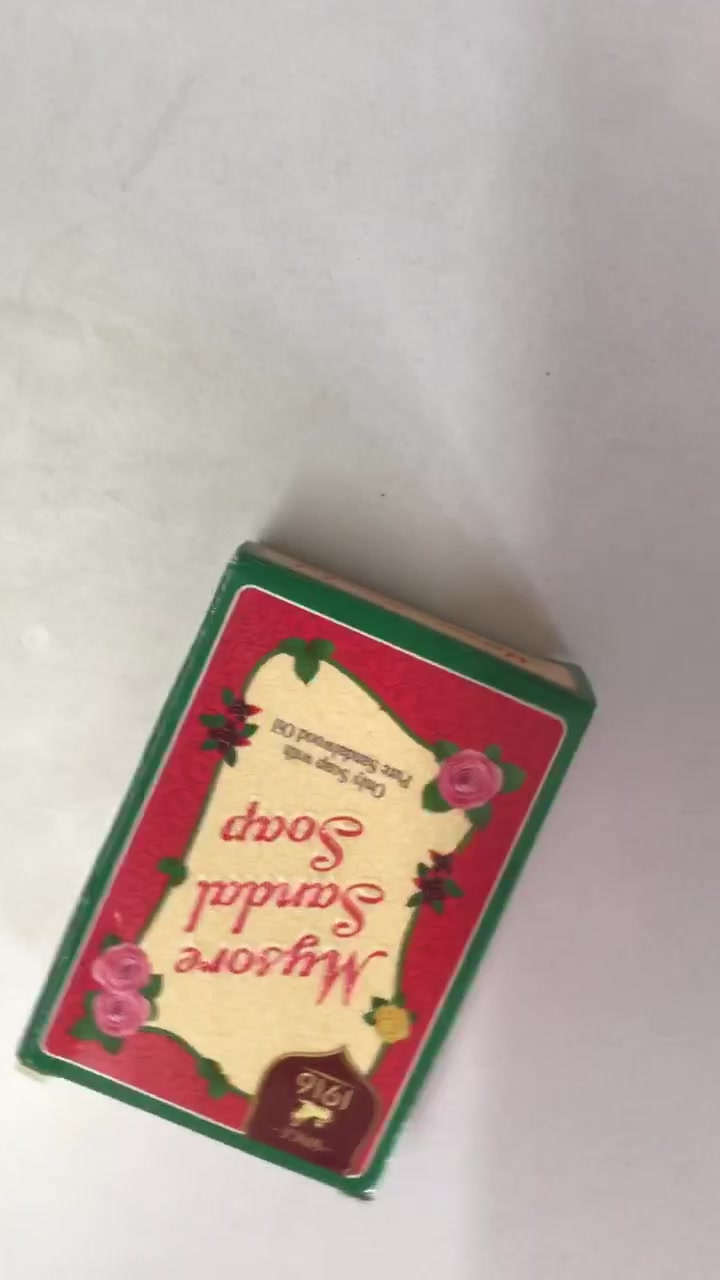mysore sandal soap: (26, 549, 598, 1206)
